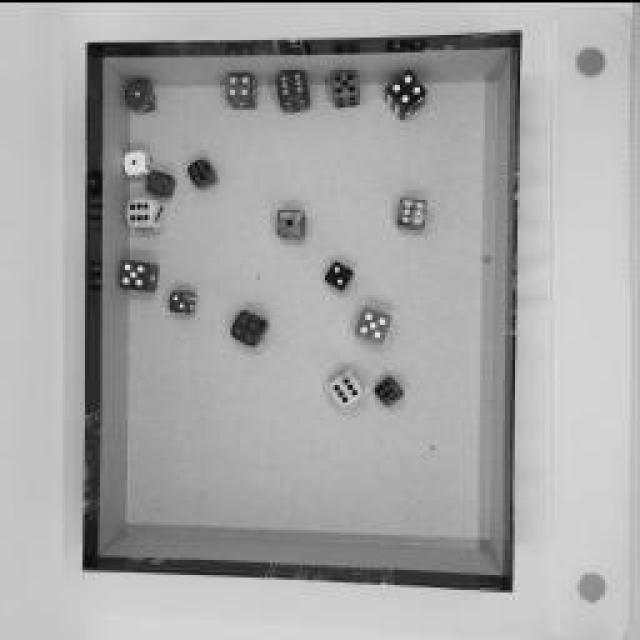dice_1: (124, 75, 161, 115), (121, 146, 159, 179), (274, 206, 311, 239)
dice_2: (326, 255, 359, 290), (166, 284, 199, 316)
dice_3: (145, 167, 180, 195)
dice_4: (381, 66, 431, 119), (229, 305, 271, 345), (225, 69, 263, 106)
dice_5: (354, 301, 398, 344), (116, 255, 164, 293), (328, 62, 364, 108)
dice_6: (322, 364, 370, 408), (273, 66, 315, 114), (124, 191, 166, 234), (395, 192, 435, 230), (185, 150, 223, 190), (372, 369, 408, 409)
